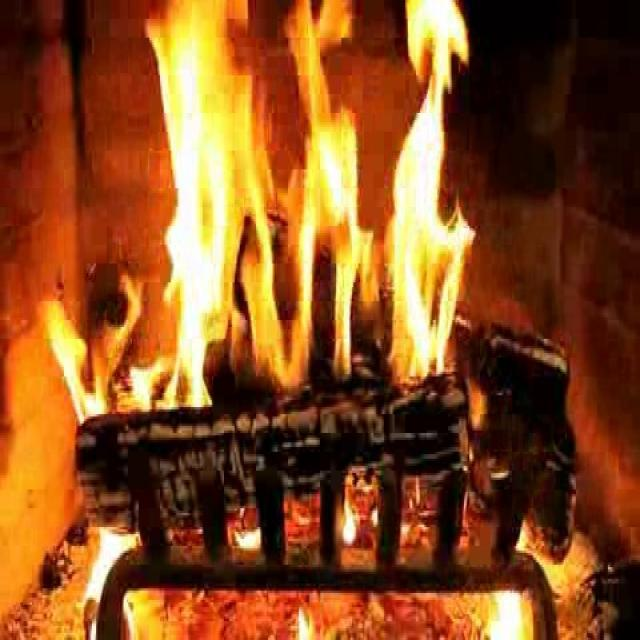Fire: (138, 0, 472, 419)
